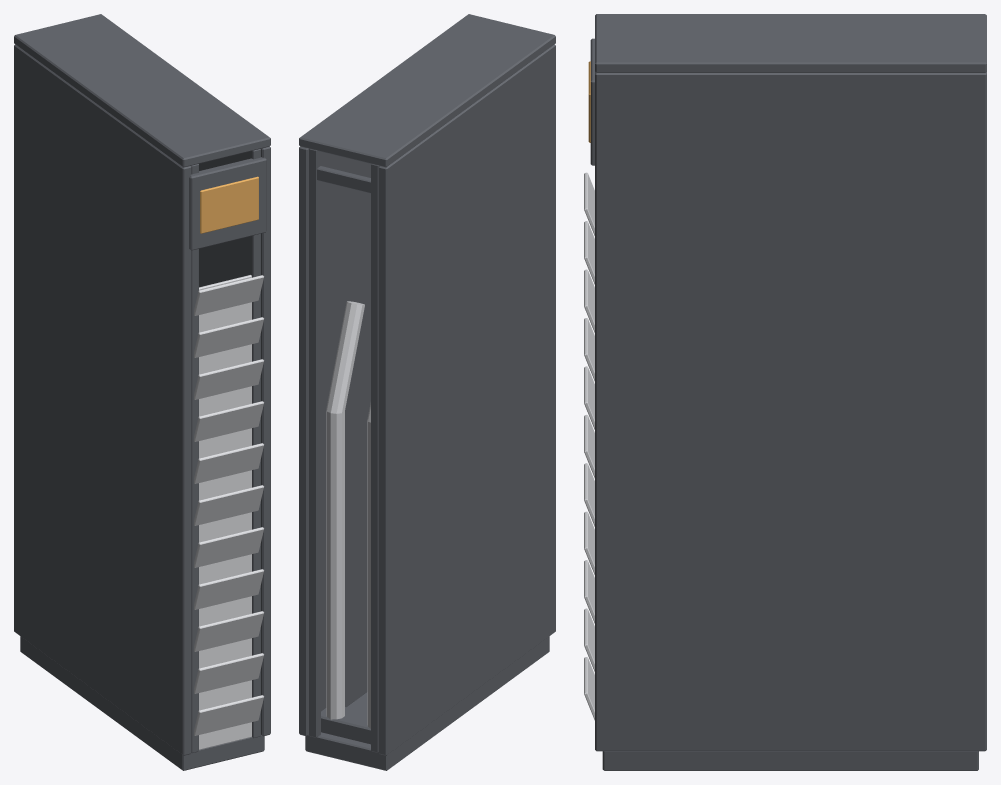
Rendered from office-lobby-and-facilities-in-row-cooling-unit-b833df74__26197.glb.
3 views of the same model, side by side, from view 1: azimuth 30°, elevation 25°; view 2: azimuth 150°, elevation 25°; view 3: azimuth 270°, elevation 25° (orthographic). The views are drawn at different scales.
Visible parts, largest first — view 1: in-row-cooling-unit; view 2: in-row-cooling-unit; view 3: in-row-cooling-unit.
Boxes of the visible parts, x1,y1,x2,y2 form: in-row-cooling-unit: (14, 14, 270, 770); in-row-cooling-unit: (299, 14, 555, 770); in-row-cooling-unit: (584, 14, 986, 770).
Size of the model in its own units: 0.3001 by 2 by 1.03.
